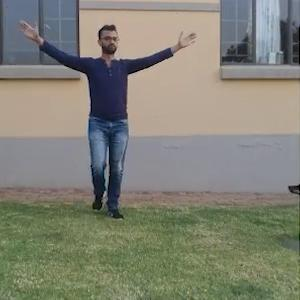takeoff: (25, 27, 188, 211)
